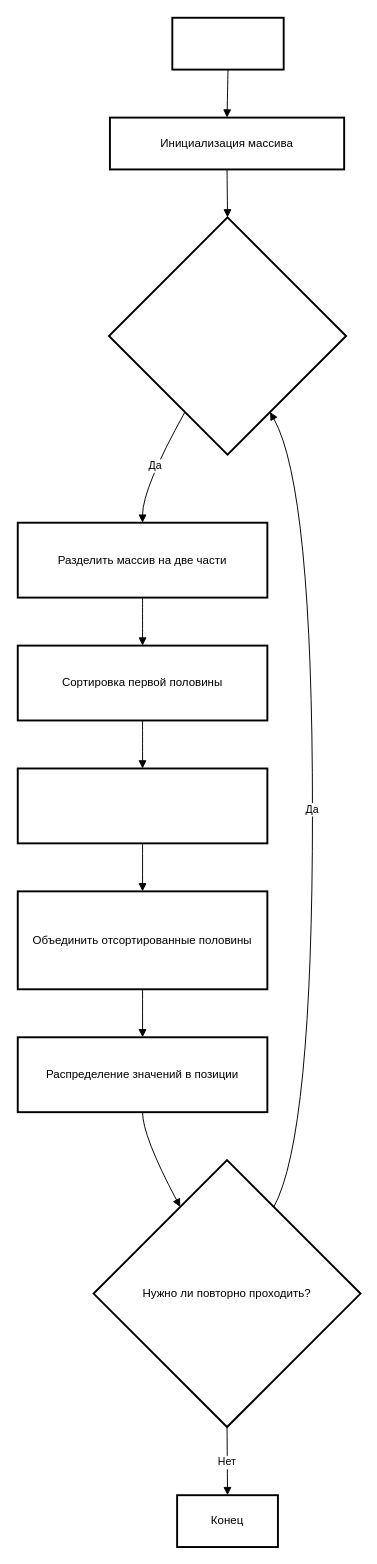
Some shapes in this 377 by 1564 pixel diagram are drawn without their labels. Here are the shapes that lost their labels. From the top down, the box of each, then its label:
(171, 16, 284, 70): Начало
(108, 216, 347, 455): Массив не отсортирован?
(16, 767, 268, 844): Сортировка второй половины
